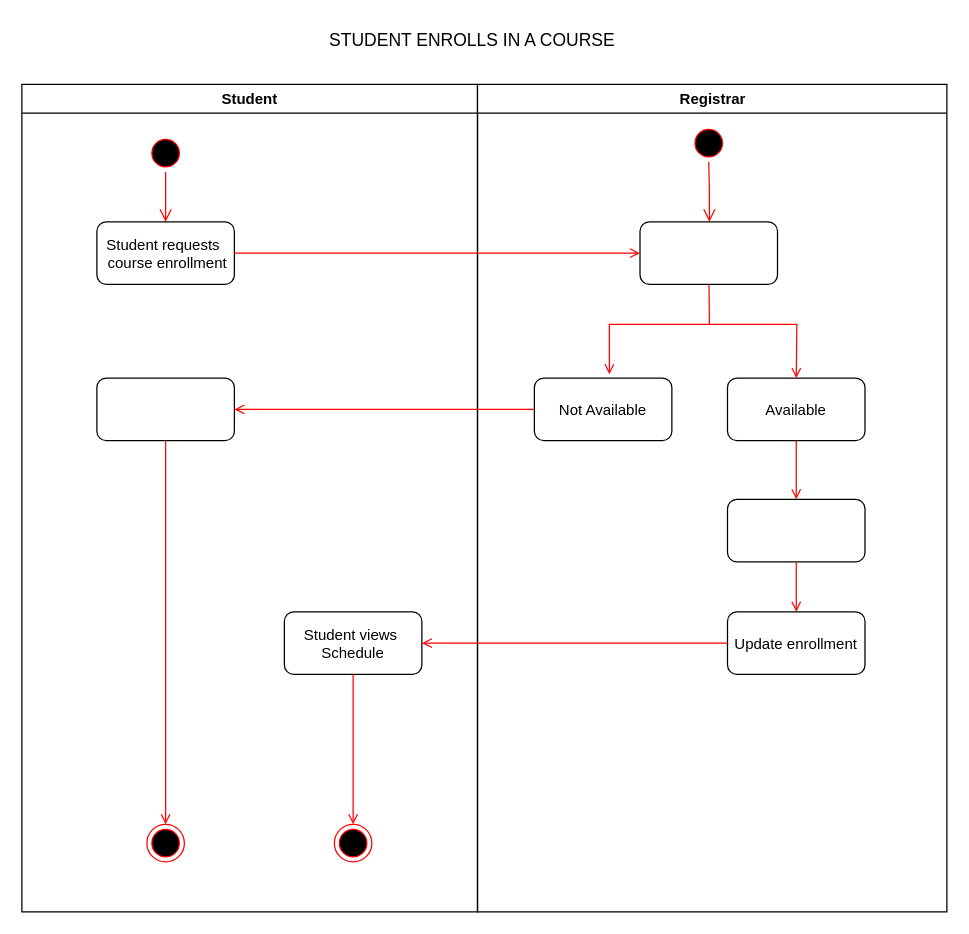
Image size: 969x934. Some labels were removed from this diagram. Here are the shapes that lost their labels. From the top down, the box of each, then its label:
(639, 221, 778, 284): Registrar checks course availability
(96, 377, 234, 441): Notify Student
(726, 498, 865, 562): Enroll Student
